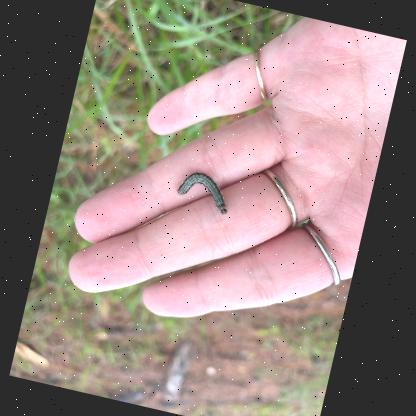Fall Armyworm Larvae: (172, 164, 236, 216)
